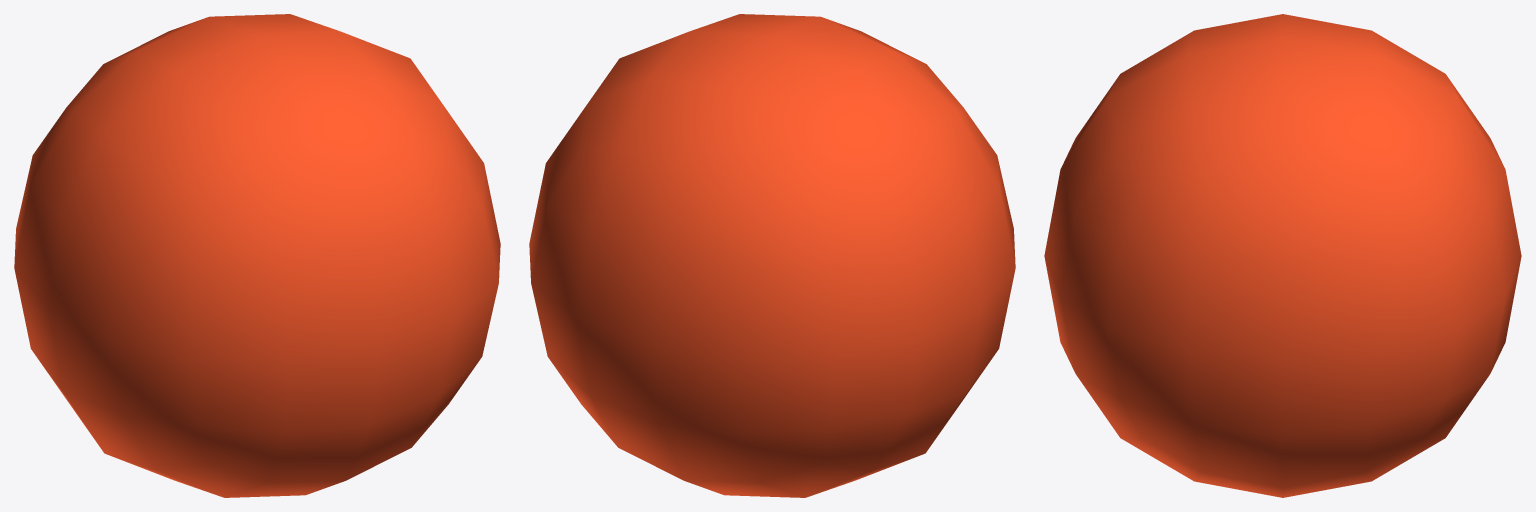
Rendered from Ball (1).fbx.
The picture shows the model from 3 angles, left to right: view 1: azimuth 30°, elevation 25°; view 2: azimuth 150°, elevation 25°; view 3: azimuth 270°, elevation 25°; orthographic projection.
Parts seen in each view (by area): view 1: Ball; view 2: Ball; view 3: Ball.
Part boxes in pixels (<box>): Ball: <box>14,14,500,497</box>; Ball: <box>529,14,1015,497</box>; Ball: <box>1044,14,1521,497</box>.
Bounding box in the file's own units: 0.0307 × 0.0307 × 0.0307.
